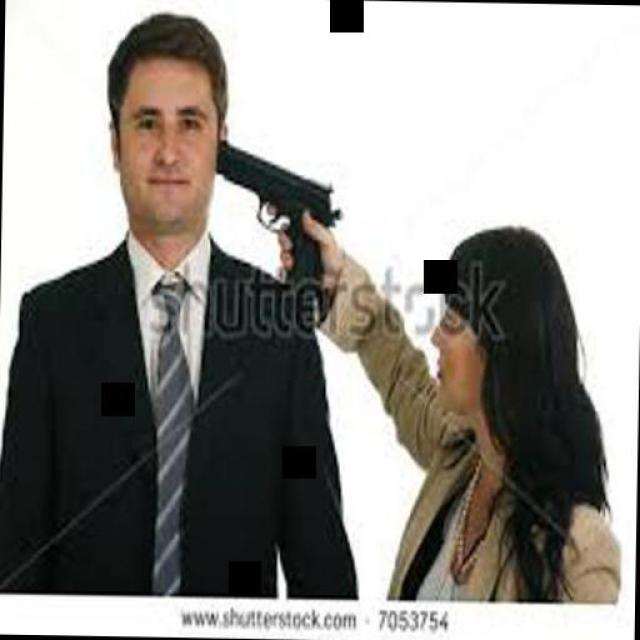gun: (206, 132, 339, 308)
